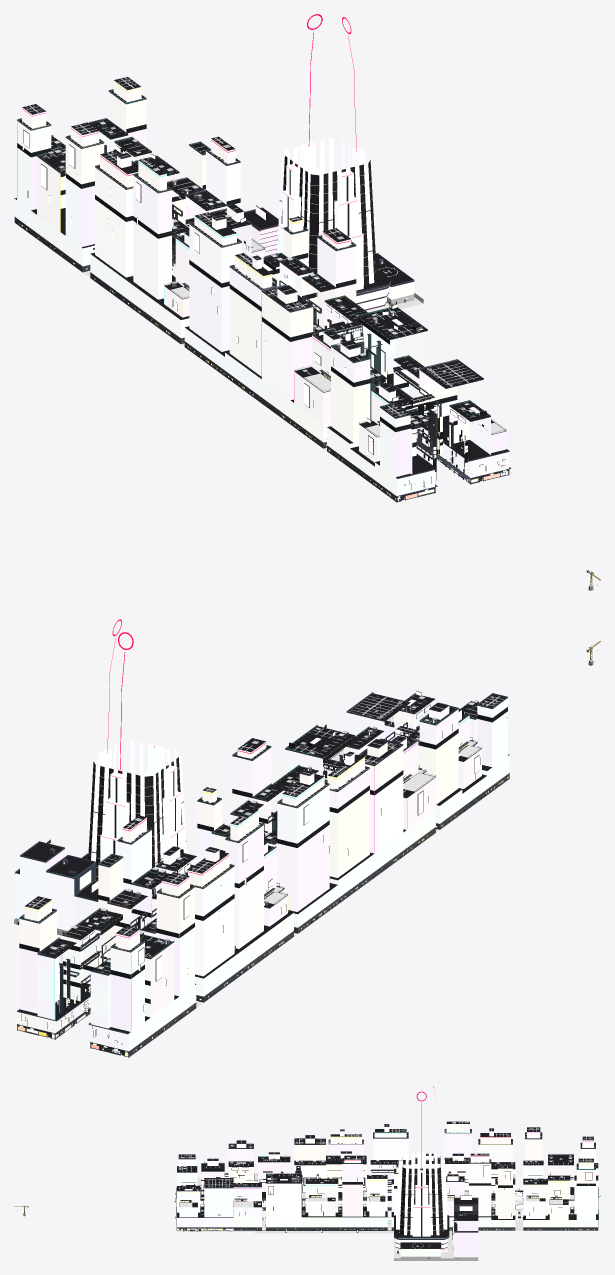
File: world-phone-canyon.glb
3 views of the same model, one above another, from view 1: azimuth 30°, elevation 25°; view 2: azimuth 150°, elevation 25°; view 3: azimuth 270°, elevation 25° (orthographic). The views are drawn at different scales.
Parts seen in each view (by area): view 1: canyon_b_facade, canyon_b_trim, canyon_b_roof, canyon_b_glow, canyon_b_plaster, canyon_b_board_frame, canyon_b_billboard, canyon_b_metal, canyon_b_sidewalk, canyon_b_sign; view 2: canyon_b_facade, canyon_b_trim, canyon_b_roof, canyon_b_glow, canyon_b_plaster, canyon_b_billboard, canyon_b_metal, canyon_b_board_frame, canyon_b_sidewalk, canyon_b_sign, canyon_b_neon_red; view 3: canyon_b_facade, canyon_b_roof, canyon_b_trim, canyon_b_glow, canyon_b_sidewalk, canyon_b_plaster, canyon_b_billboard, canyon_b_board_frame, canyon_b_metal, canyon_b_concrete.
Part boxes in pixels (x1=…): canyon_b_facade: x1=15, y1=80, x2=508, y2=495; canyon_b_trim: x1=14, y1=77, x2=511, y2=502; canyon_b_roof: x1=15, y1=77, x2=508, y2=478; canyon_b_glow: x1=21, y1=77, x2=507, y2=501; canyon_b_plaster: x1=15, y1=217, x2=396, y2=501; canyon_b_board_frame: x1=23, y1=129, x2=505, y2=490; canyon_b_billboard: x1=23, y1=130, x2=505, y2=475; canyon_b_metal: x1=26, y1=78, x2=506, y2=435; canyon_b_sidewalk: x1=83, y1=240, x2=512, y2=473; canyon_b_sign: x1=22, y1=143, x2=506, y2=497; canyon_b_facade: x1=15, y1=698, x2=509, y2=1051; canyon_b_trim: x1=14, y1=692, x2=509, y2=1057; canyon_b_roof: x1=16, y1=693, x2=508, y2=1033; canyon_b_glow: x1=26, y1=694, x2=503, y2=1053; canyon_b_plaster: x1=129, y1=773, x2=508, y2=1056; canyon_b_billboard: x1=55, y1=691, x2=479, y2=1037; canyon_b_metal: x1=28, y1=697, x2=497, y2=997; canyon_b_board_frame: x1=18, y1=691, x2=507, y2=1052; canyon_b_sidewalk: x1=15, y1=715, x2=480, y2=1007; canyon_b_sign: x1=18, y1=717, x2=507, y2=1052; canyon_b_neon_red: x1=71, y1=619, x2=341, y2=1025; canyon_b_facade: x1=177, y1=1124, x2=598, y2=1257; canyon_b_roof: x1=177, y1=1121, x2=598, y2=1248; canyon_b_trim: x1=176, y1=1121, x2=598, y2=1257; canyon_b_glow: x1=177, y1=1129, x2=597, y2=1248; canyon_b_sidewalk: x1=178, y1=1173, x2=573, y2=1258; canyon_b_plaster: x1=200, y1=1198, x2=598, y2=1230; canyon_b_billboard: x1=179, y1=1156, x2=591, y2=1232; canyon_b_board_frame: x1=174, y1=1155, x2=600, y2=1258; canyon_b_metal: x1=178, y1=1122, x2=596, y2=1231; canyon_b_concrete: x1=179, y1=1209, x2=478, y2=1260.
Size of the model in its own units: 178 by 211 by 724.
